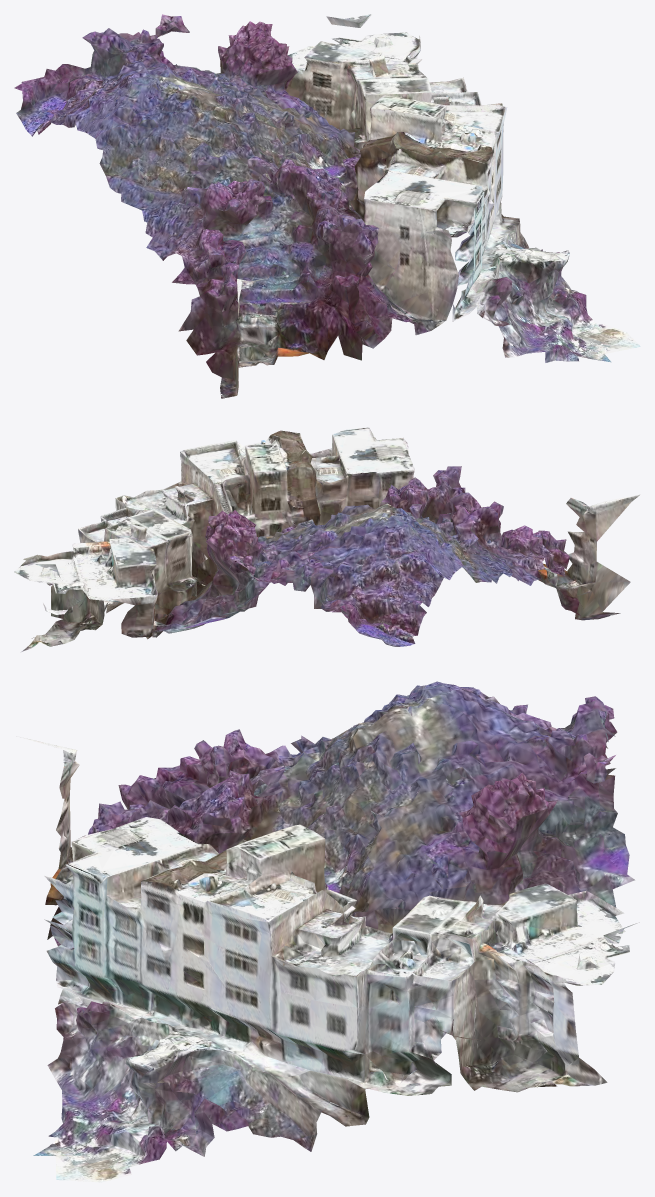
Rendered from Tile_+011_+019_L19_000012.glb.
3 views of the same model, one above another, from view 1: azimuth 30°, elevation 25°; view 2: azimuth 150°, elevation 25°; view 3: azimuth 270°, elevation 25° (orthographic). The views are drawn at different scales.
Parts seen in each view (by area): view 1: rtc; view 2: rtc; view 3: rtc.
Part boxes in pixels (<box>): rtc: <box>14,14,640,398</box>; rtc: <box>14,427,640,651</box>; rtc: <box>16,681,639,1182</box>.
Bounding box in the file's own units: 55.96 × 29.83 × 58.13.
Materials: 1 (1 with a texture image).
